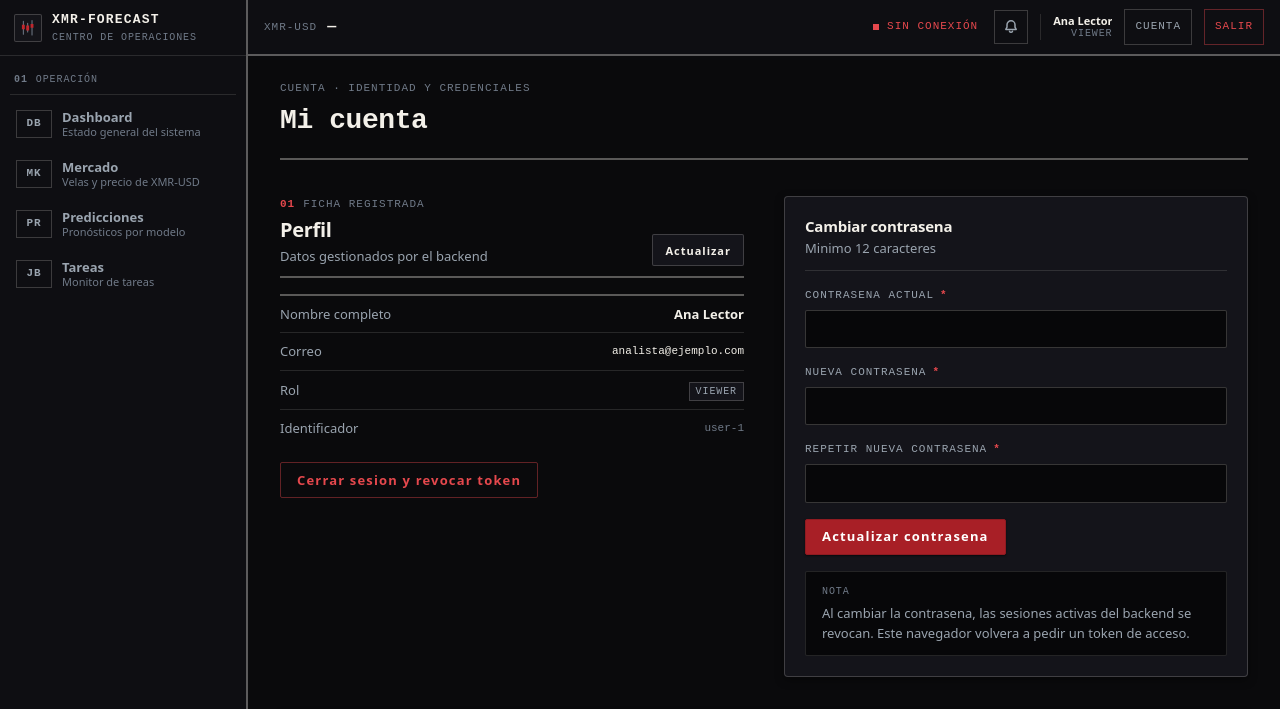
Test: account password change › blocks a mismatched confirmation locally
Type "vieja-larga-1234" into the password field labelled "Contrasena actual *".
click(1016, 329); type("vieja-larga-1234")  # box [805, 310, 1227, 348]
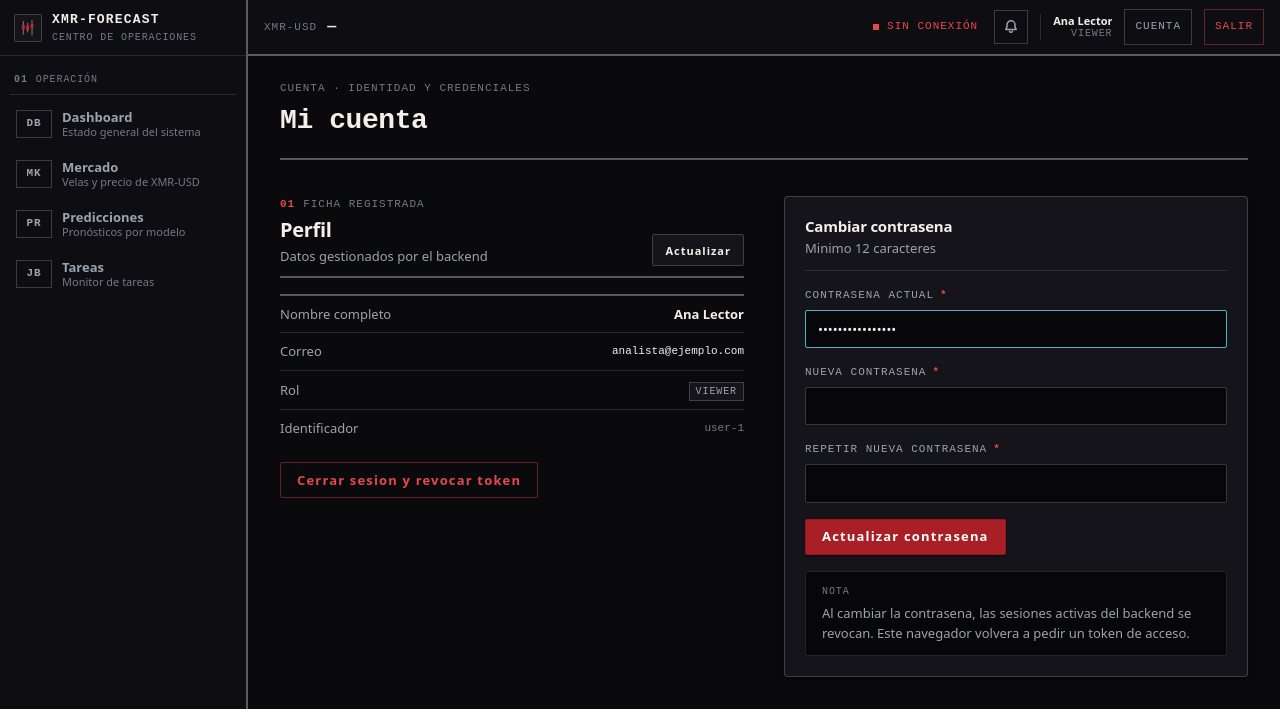
Type "nueva-larga-12345" into the password field labelled "Nueva contrasena *".
click(1016, 406); type("nueva-larga-12345")  # box [805, 387, 1227, 425]
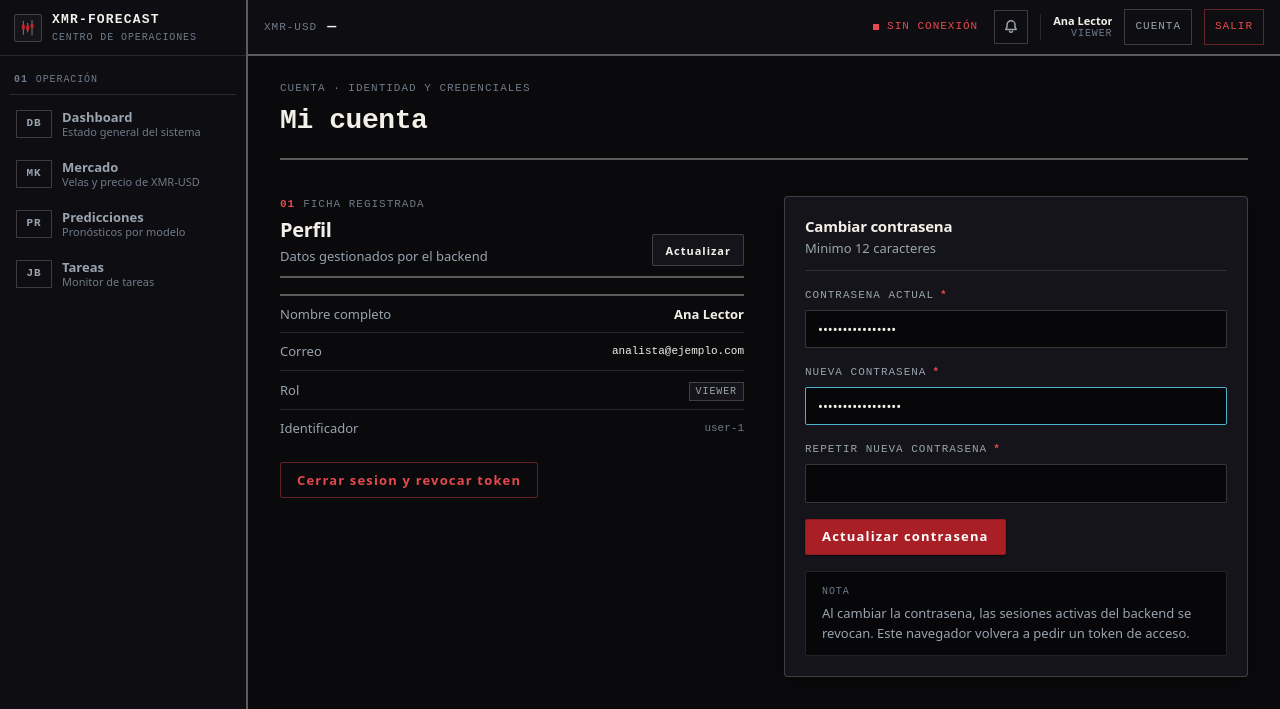
Type "otra-cosa-distinta" into the password field labelled "Repetir nueva contrasena *".
click(1016, 483); type("otra-cosa-distinta")  # box [805, 464, 1227, 502]
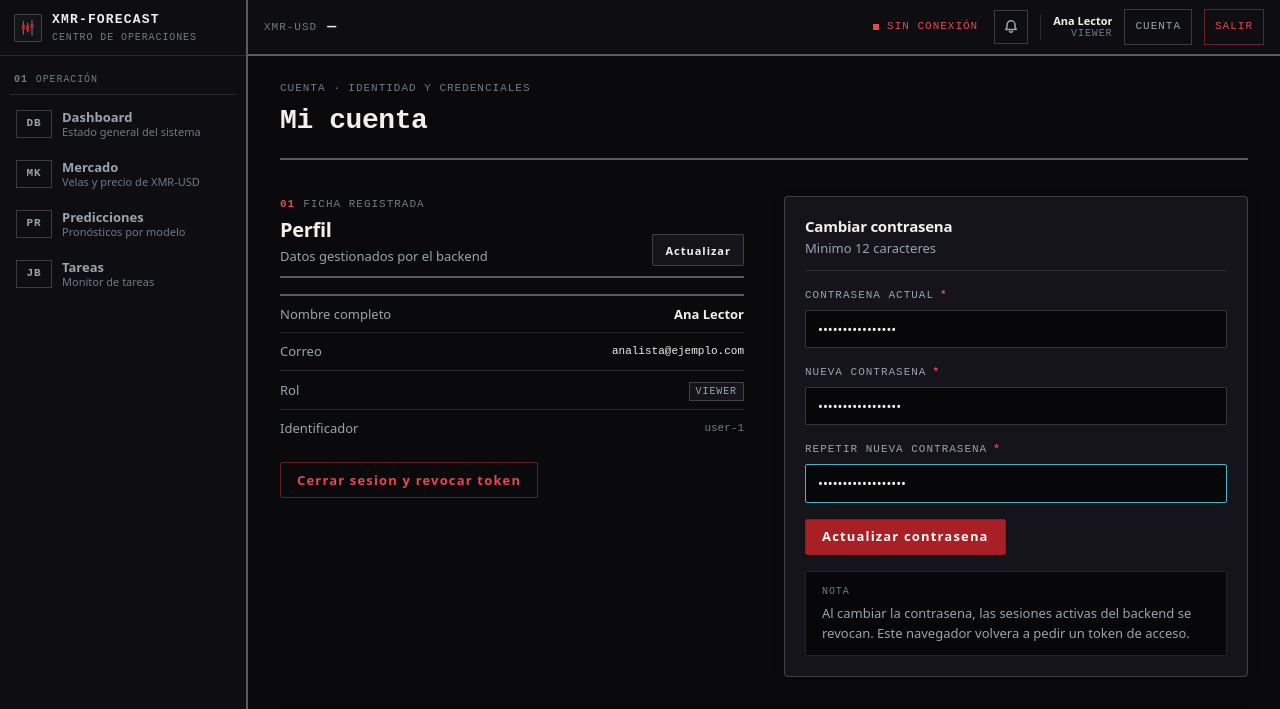
Click the button "Actualizar contrasena".
click(905, 536)  # box [805, 518, 1006, 554]
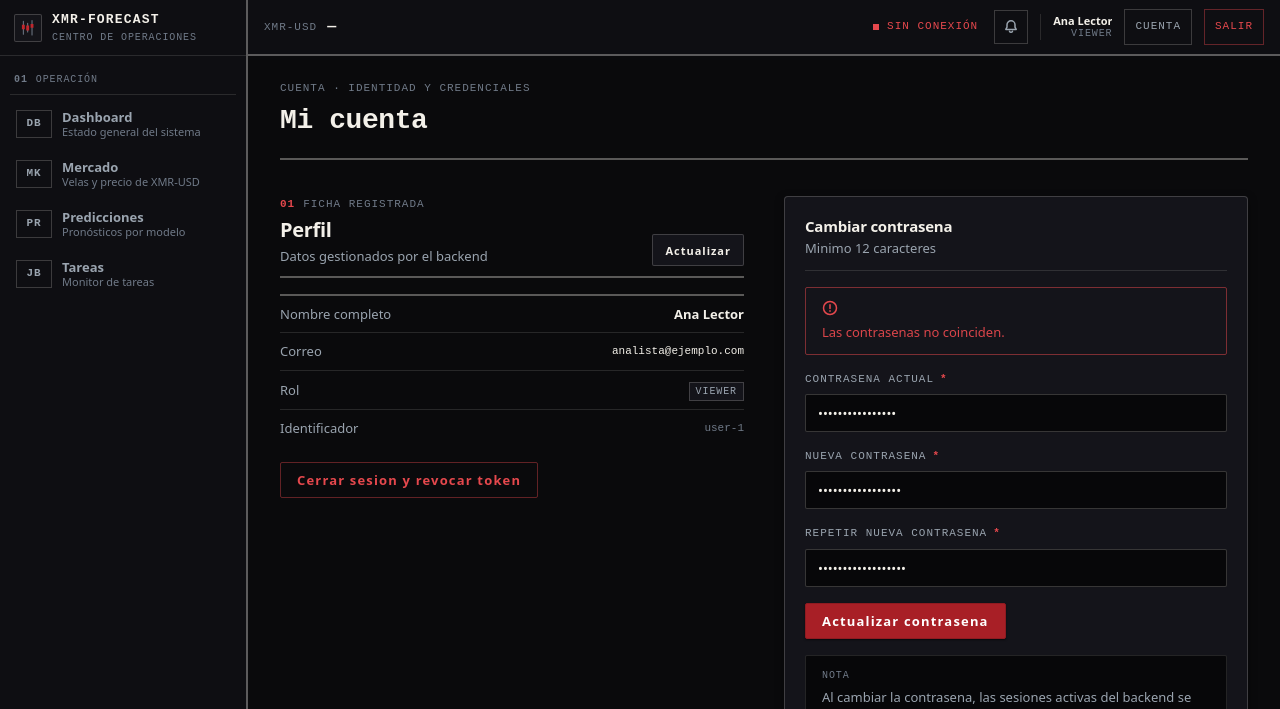
Result: the text "Las contrasenas no coinciden." is shown at [822, 323, 1005, 341]
